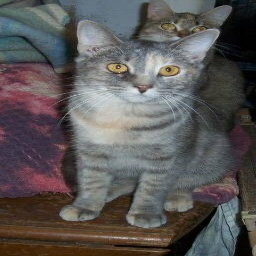cat: (58, 3, 235, 227)
